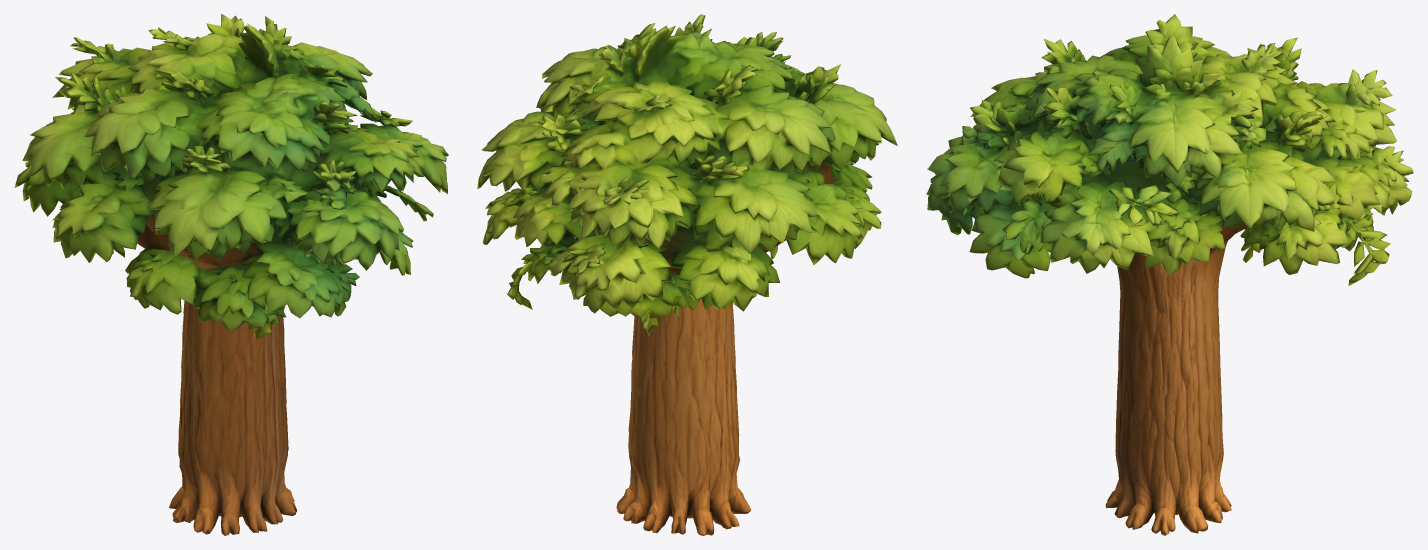
File: tree.glb
The picture shows the model from 3 angles, left to right: view 1: azimuth 30°, elevation 25°; view 2: azimuth 150°, elevation 25°; view 3: azimuth 270°, elevation 25°; orthographic projection.
Visible parts, largest first — view 1: tripo_node_c87ad1d2-bf73-4e3f-8a63-54087e0dafa5; view 2: tripo_node_c87ad1d2-bf73-4e3f-8a63-54087e0dafa5; view 3: tripo_node_c87ad1d2-bf73-4e3f-8a63-54087e0dafa5.
Boxes of the visible parts, x1,y1,x2,y2 form: tripo_node_c87ad1d2-bf73-4e3f-8a63-54087e0dafa5: [14, 14, 448, 535]; tripo_node_c87ad1d2-bf73-4e3f-8a63-54087e0dafa5: [477, 14, 897, 535]; tripo_node_c87ad1d2-bf73-4e3f-8a63-54087e0dafa5: [926, 14, 1413, 535].
Bounding box in the file's own units: 13.73 × 18 × 16.29.
Materials: 1 (1 with a texture image).
